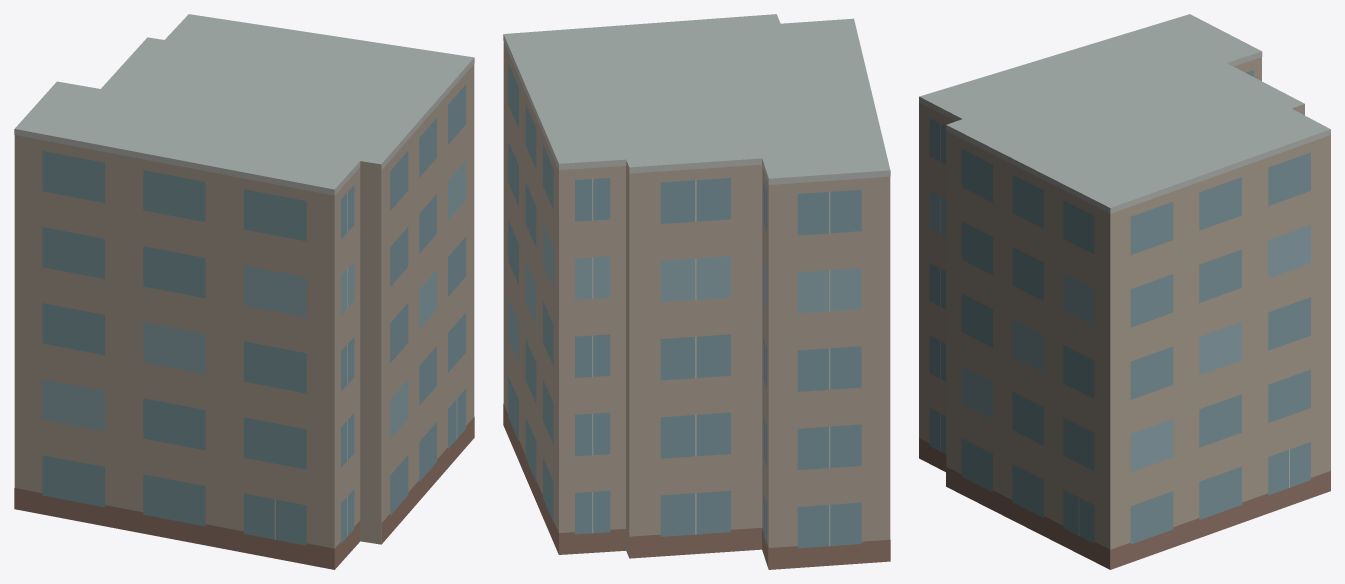
File: survey-upis-32654791.glb
3 renders of one model, left to right at view 1: azimuth 30°, elevation 25°; view 2: azimuth 150°, elevation 25°; view 3: azimuth 270°, elevation 25°, orthographic. The views are drawn at different scales.
Visible parts, largest first — view 1: survey-upis-32654791.tmp; view 2: survey-upis-32654791.tmp; view 3: survey-upis-32654791.tmp.
Boxes of the visible parts, bbox=[...] form: survey-upis-32654791.tmp: bbox=[14, 14, 474, 569]; survey-upis-32654791.tmp: bbox=[503, 14, 890, 569]; survey-upis-32654791.tmp: bbox=[919, 14, 1330, 569].
Size of the model in its own units: 17.62 by 15.31 by 15.8.
